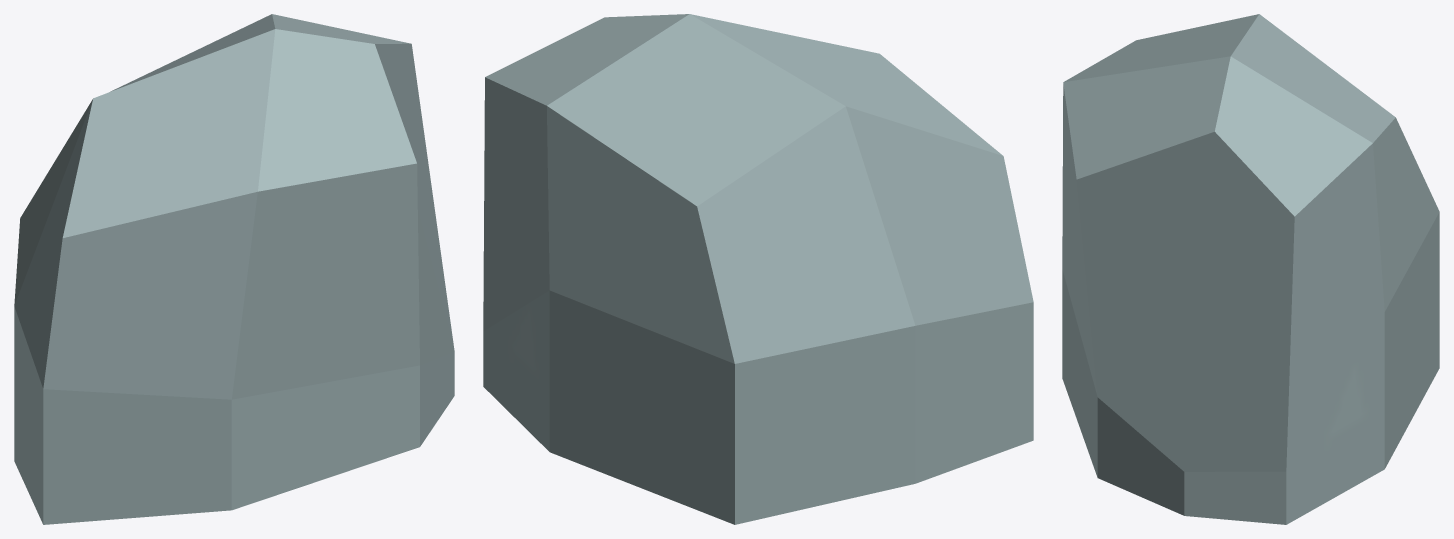
The model's file is Rubble2.fbx.
3 renders of one model, left to right at view 1: azimuth 30°, elevation 25°; view 2: azimuth 150°, elevation 25°; view 3: azimuth 270°, elevation 25°, orthographic. The views are drawn at different scales.
Visible parts, largest first — view 1: Rubble2; view 2: Rubble2; view 3: Rubble2.
Boxes of the visible parts, <box> form: Rubble2: <box>14,14,454,524</box>; Rubble2: <box>483,14,1033,524</box>; Rubble2: <box>1062,14,1439,524</box>.
Size of the model in its own units: 0.3512 by 0.2833 by 0.2521.
